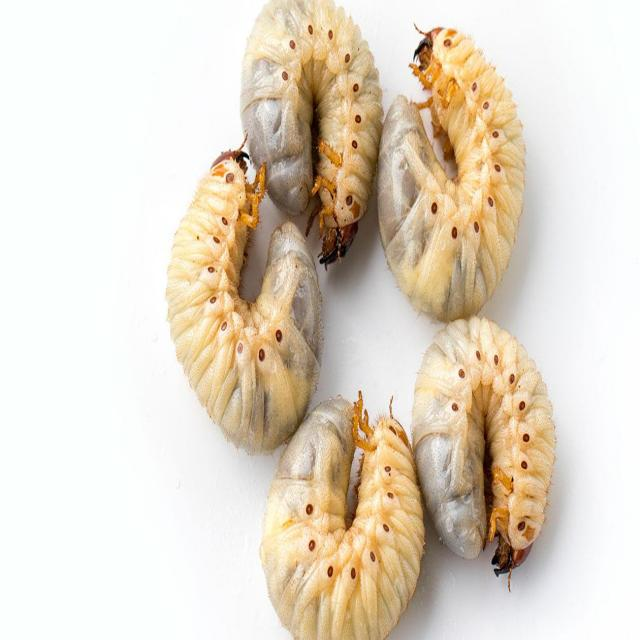Grub-Adult-: (141, 139, 317, 456), (367, 18, 545, 322), (398, 304, 564, 588), (254, 375, 429, 633), (240, 2, 382, 250)
